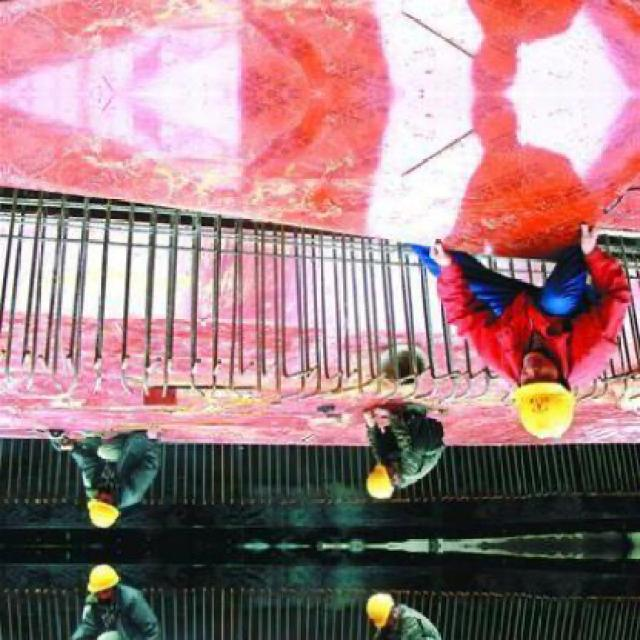con casco: (334, 413, 469, 503), (62, 446, 186, 540), (505, 339, 609, 441)
